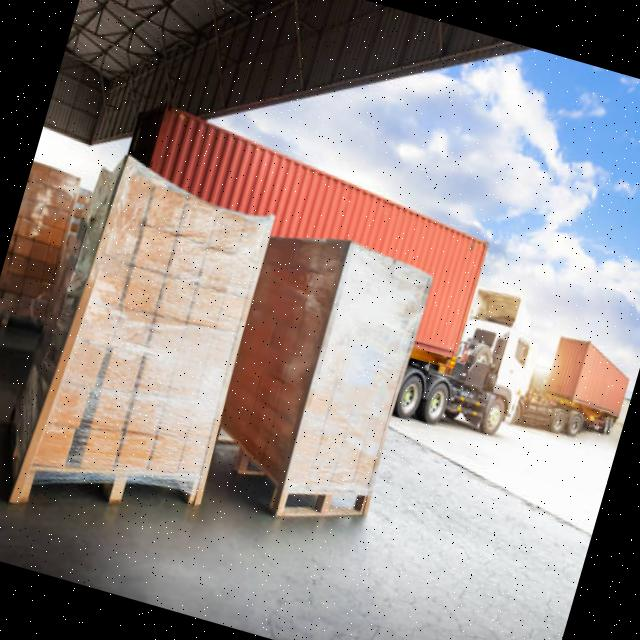Wooden-Pallets: (217, 428, 369, 520)
